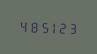eight: (27, 19, 36, 33)
five: (38, 19, 47, 33)
four: (17, 18, 26, 33)
one: (48, 19, 57, 34)
three: (68, 20, 77, 34)
two: (58, 20, 67, 34)
